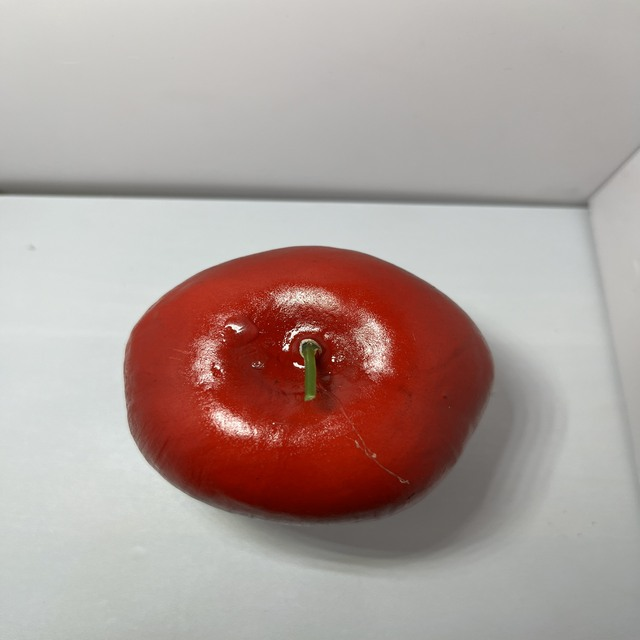Tao: (122, 239, 499, 534)
